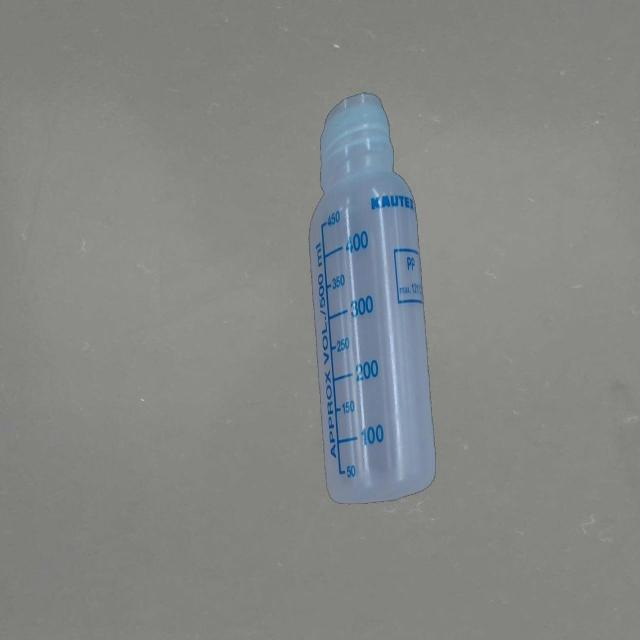bottle: (309, 85, 437, 511)
